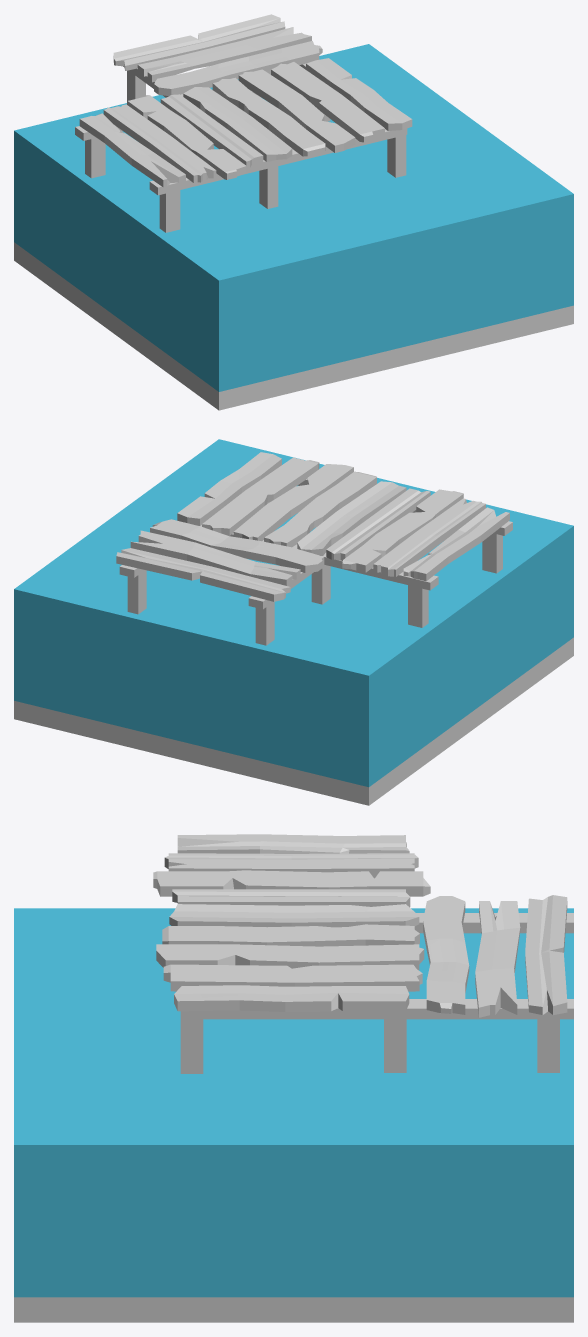
File: PortDR.fbx
The picture shows the model from 3 angles, top to bottom: view 1: azimuth 30°, elevation 25°; view 2: azimuth 150°, elevation 25°; view 3: azimuth 270°, elevation 25°; orthographic projection. The views are drawn at different scales.
Visible parts, largest first — view 1: PortDR; view 2: PortDR; view 3: PortDR.
Part boxes in pixels (left/top/right/bottom): PortDR: left=14, top=14, right=573, bottom=410; PortDR: left=14, top=439, right=573, bottom=805; PortDR: left=14, top=834, right=573, bottom=1322.
Bounding box in the file's own units: 2 × 2 × 0.9999.
